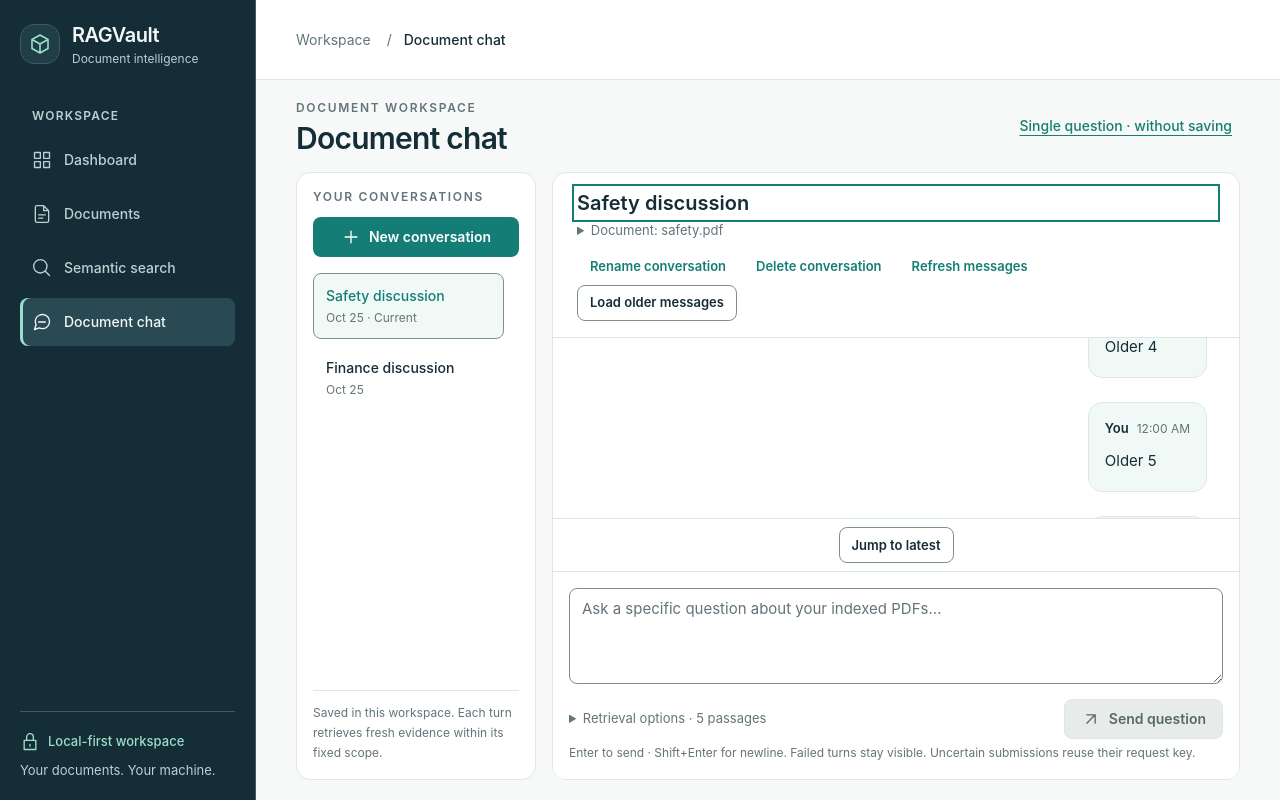
it: Saved conversations › preserves the reading anchor when older messages are prepended
(page scrolled)
Expected: the heading "Safety discussion" is shown, left=577, top=191, right=749, bottom=215
Click the button "Load older messages". click: (657, 302)
box: left=577, top=284, right=737, bottom=320
(page scrolled)
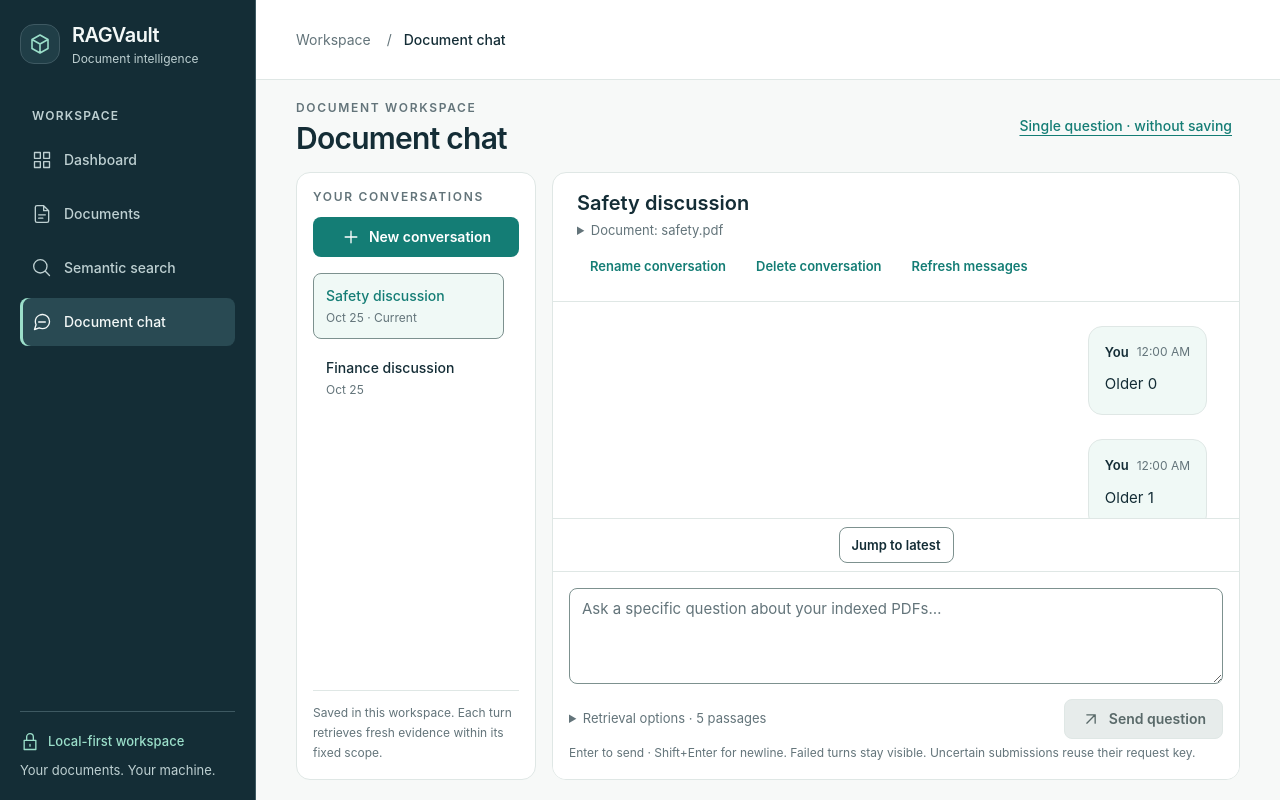
Now the text "Older 0" is shown, box left=1105, top=374, right=1157, bottom=393
